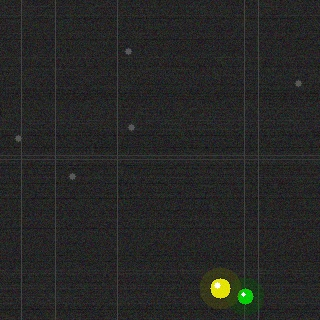green_normal: (235, 286, 255, 306)
yellow_warning: (208, 276, 232, 300)
